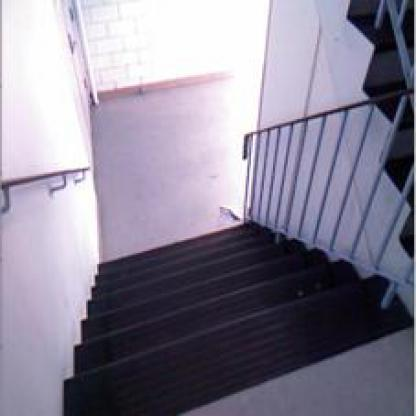stair_down: (82, 297, 376, 394)
